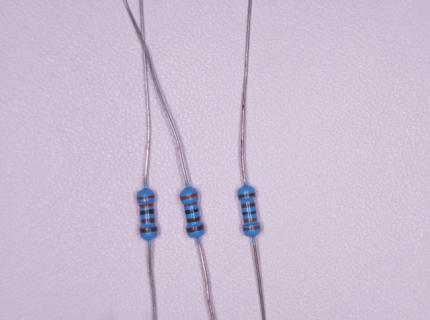Black band: (184, 209, 199, 215), (140, 209, 154, 215), (243, 211, 256, 216)
Brown band: (186, 225, 204, 233), (237, 192, 256, 199), (140, 227, 157, 234), (187, 216, 200, 223), (141, 218, 155, 224), (241, 202, 255, 208)
Orange band: (180, 193, 197, 200), (137, 195, 154, 200), (243, 226, 260, 231), (140, 203, 153, 208), (184, 202, 197, 207), (244, 218, 257, 223)
